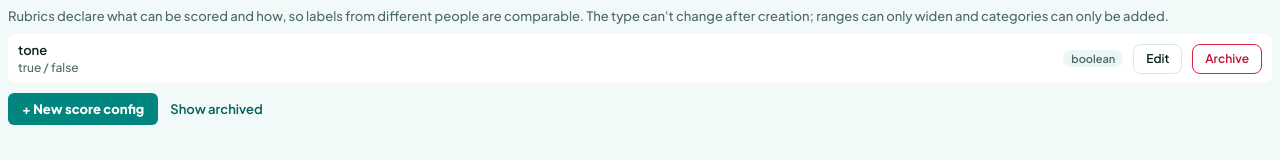
Test: ScoreConfigsPanel › archives a config and hides it from the default list
Click the button "Archive": (1227, 58) 1192,44 -> 1262,74
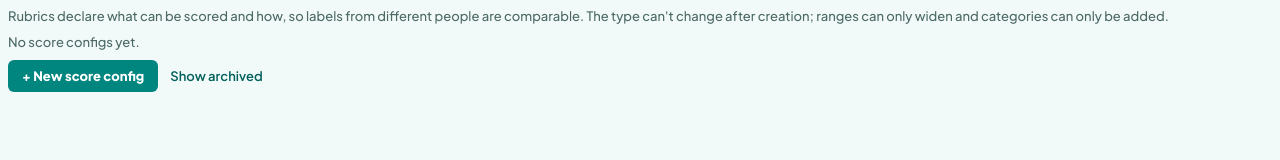
expect no list items with test id "score-config-row" are shown: met
